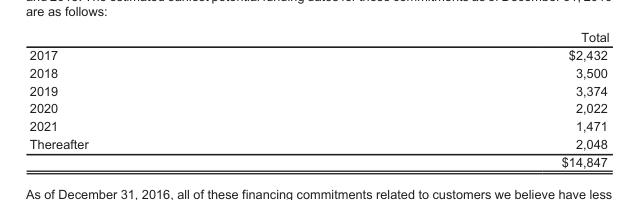table: (28, 29, 608, 168)
table column: (28, 29, 324, 168), (324, 29, 608, 168)
table column header: (28, 29, 608, 45)
table row: (28, 45, 608, 63), (28, 63, 608, 81), (28, 81, 608, 99), (28, 116, 608, 134), (28, 134, 608, 152), (28, 99, 608, 116), (28, 29, 608, 45), (28, 152, 608, 168)
